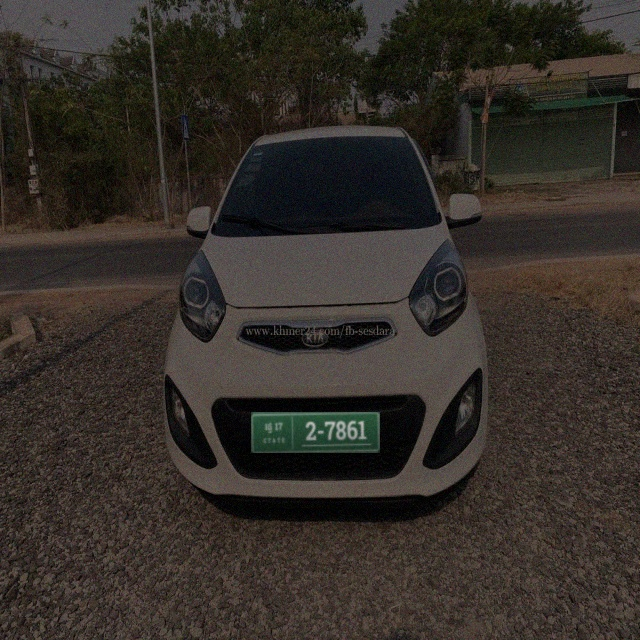Plate Number: (252, 412, 380, 453)
